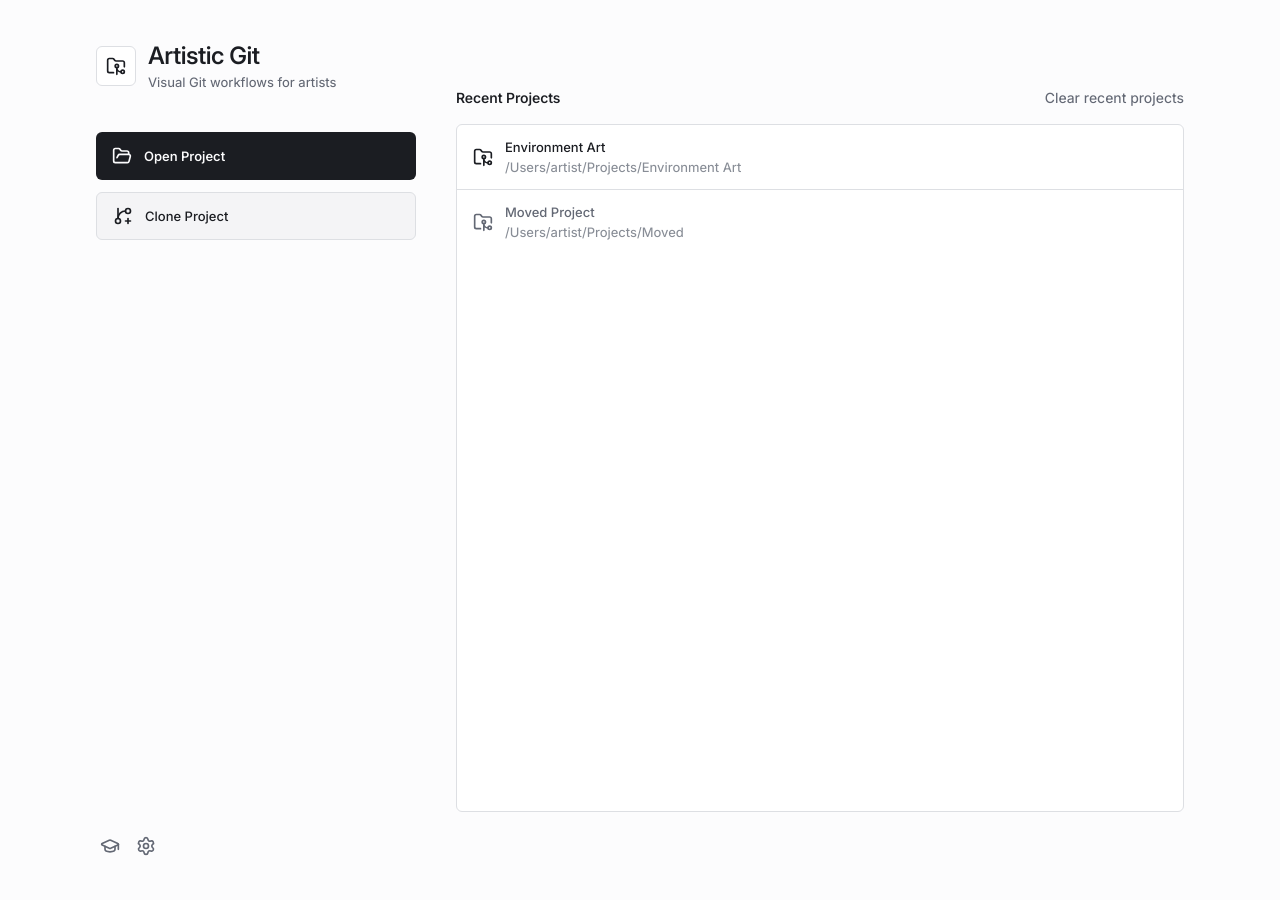
App › renders the start screen with recent project actions
This screenshot has width=1280, height=900.
Expected: the heading "Artistic Git" is shown, [148, 41, 260, 70]
Expected: the button "Open Project" is shown, [96, 132, 416, 180]
Click the button "Moved Project" at (550, 212), box [473, 198, 1131, 246]
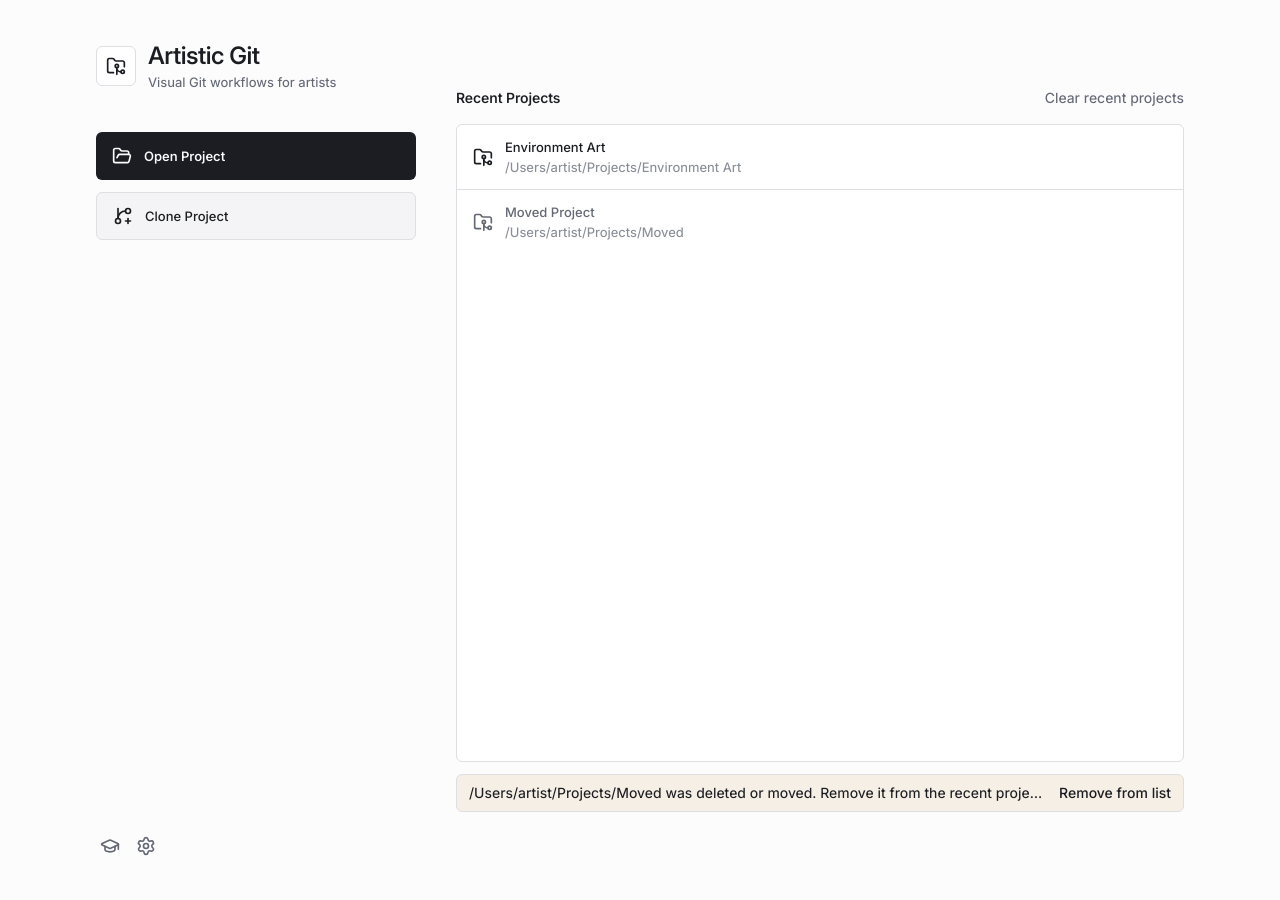
Now the message shows "was deleted or moved", box [469, 784, 1080, 801]
Click the button "Remove from list" at (1115, 793), box [1059, 783, 1171, 803]
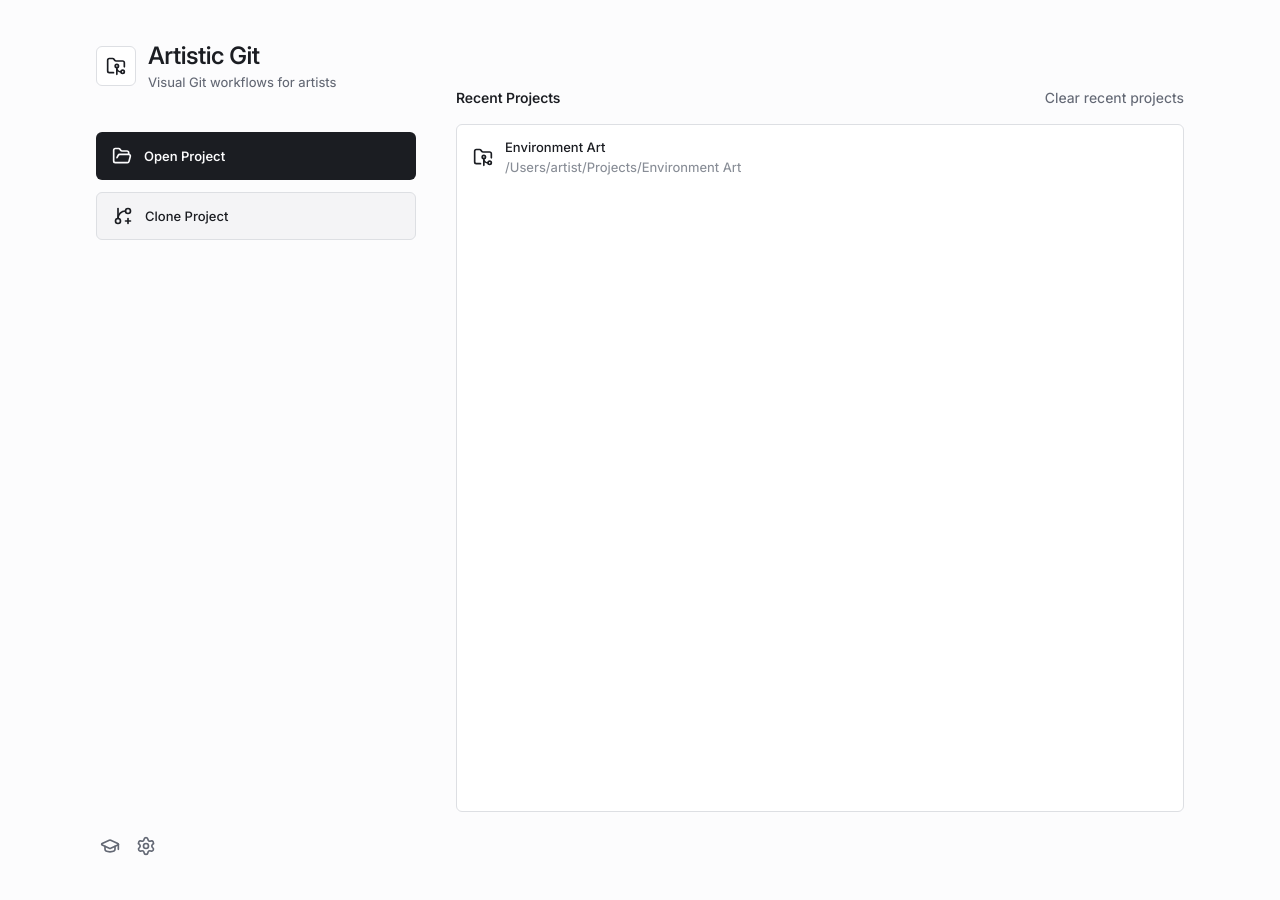
Now the button "Moved Project" is gone
Click the button "Clear recent projects" at (1114, 98), box [1045, 88, 1184, 108]
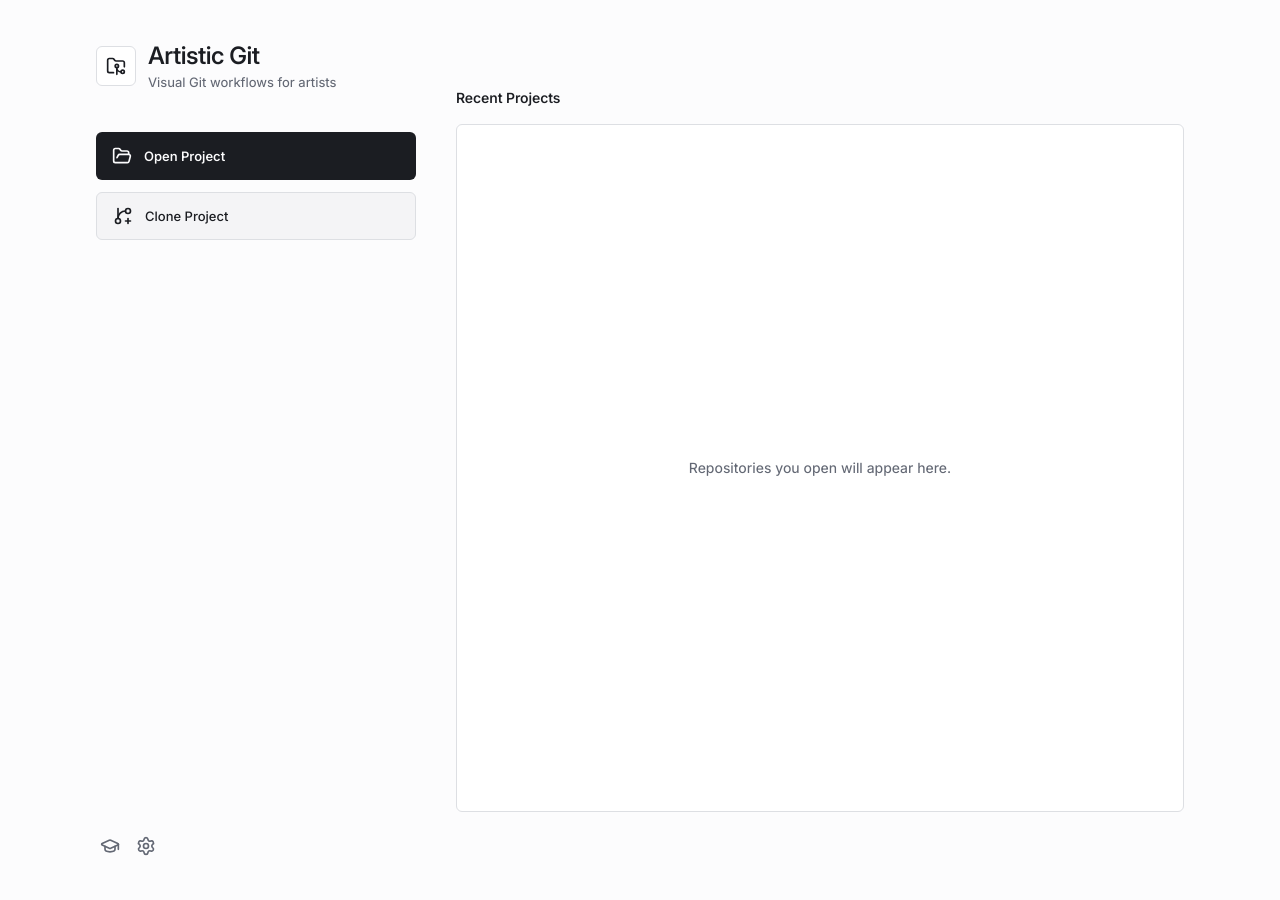
Now the text "Repositories you open will appear here." is shown, box [689, 459, 951, 476]
